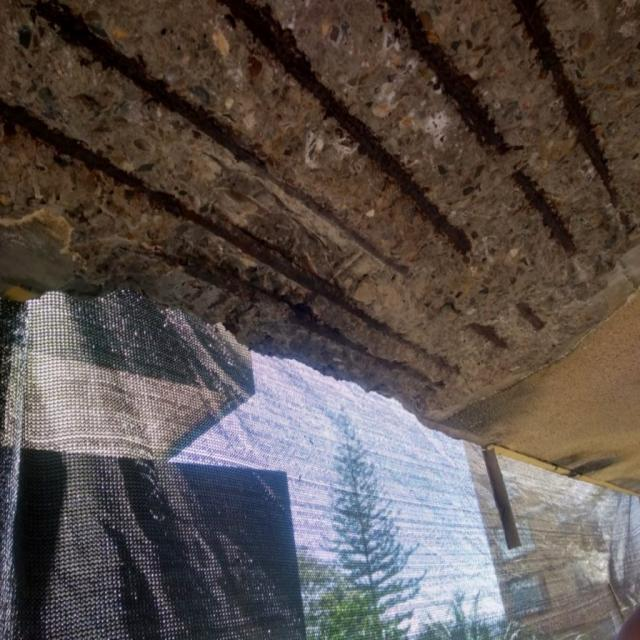Spalling: (0, 0, 640, 426)
